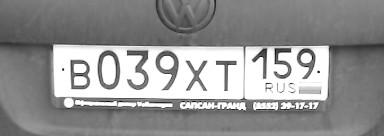license-plateSW: (52, 44, 340, 99)
